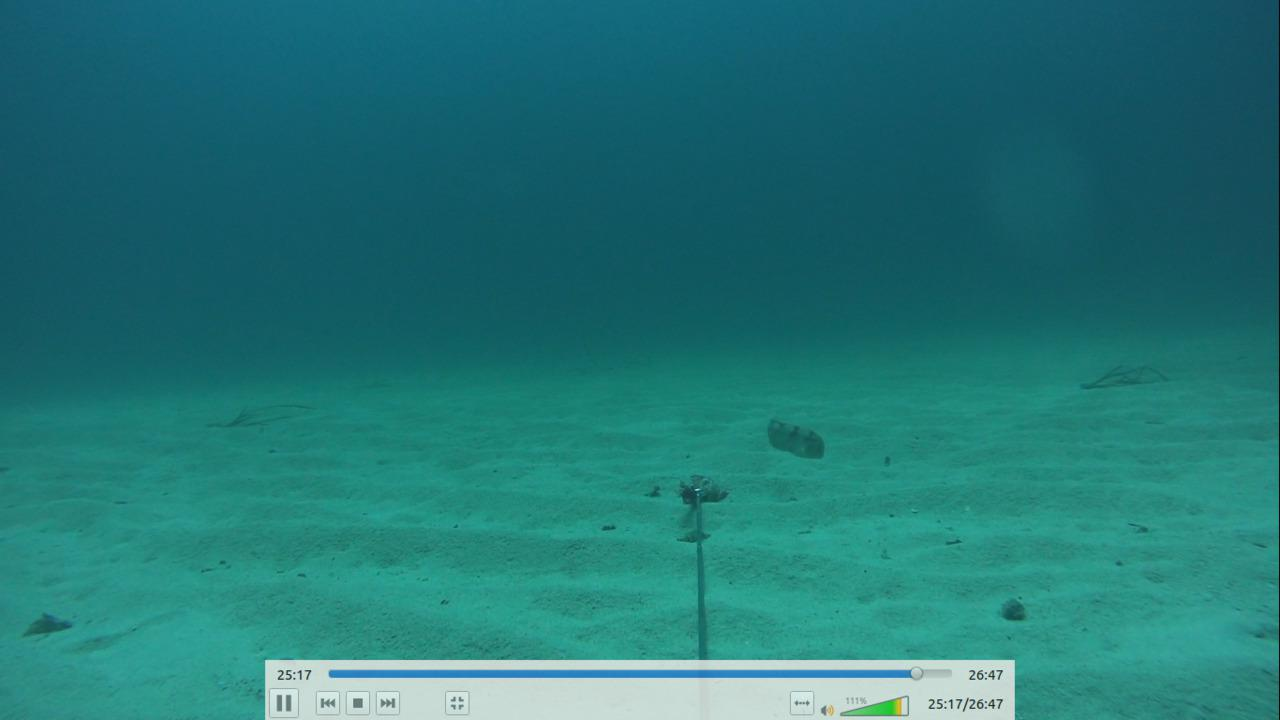raor: (759, 406, 829, 460)
